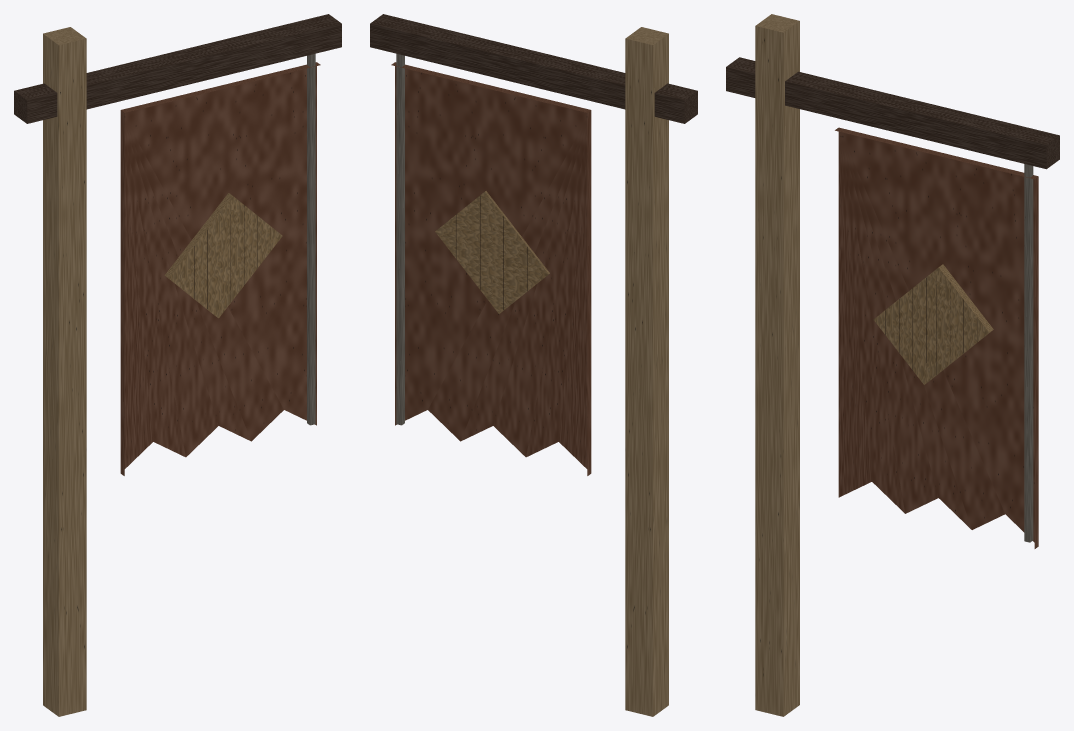
The model's file is medieval_banner.glb.
The picture shows the model from 3 angles, left to right: view 1: azimuth 30°, elevation 25°; view 2: azimuth 150°, elevation 25°; view 3: azimuth 330°, elevation 25°; orthographic projection.
Visible parts, largest first — view 1: medieval_banner; view 2: medieval_banner; view 3: medieval_banner.
Part boxes in pixels (x1,y1,x2,y2): medieval_banner: (14,14,341,716); medieval_banner: (370,14,697,716); medieval_banner: (726,14,1059,716).
Size of the model in its own units: 1.25 by 2.55 by 0.11.
1 material, 1 textured.
